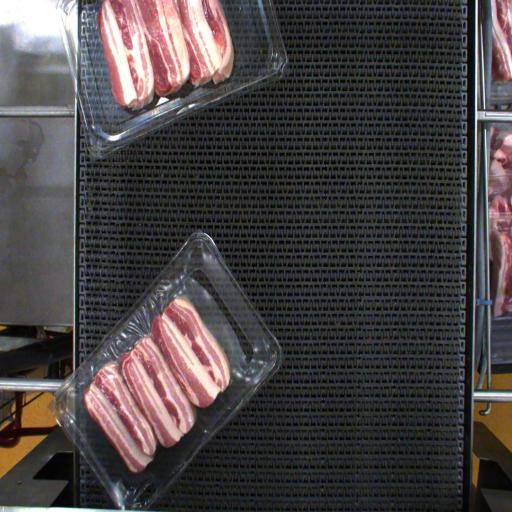unsealed: (51, 267, 269, 413)
